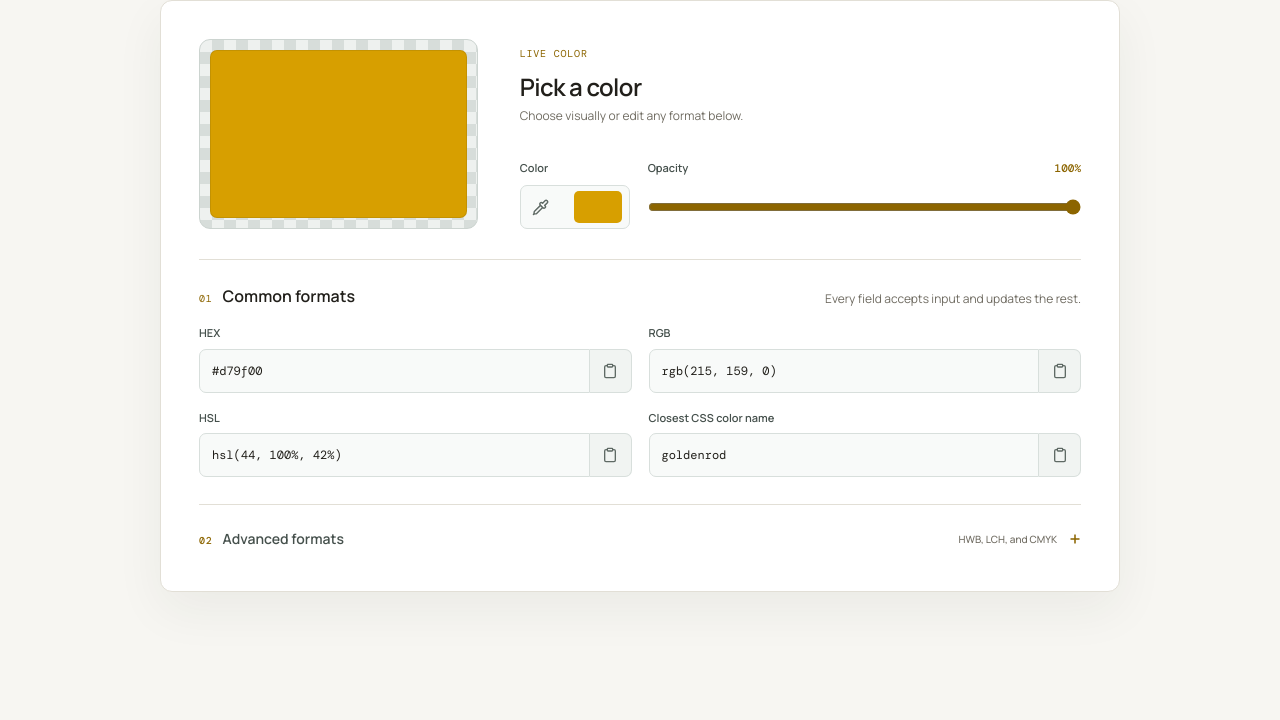
Test: ColorConverterTool › updates every format from a valid CSS color name
This screenshot has width=1280, height=720.
Replace the text in the field labelled "Closest CSS color name" with "olive": (844, 455) [648,433,1039,477]
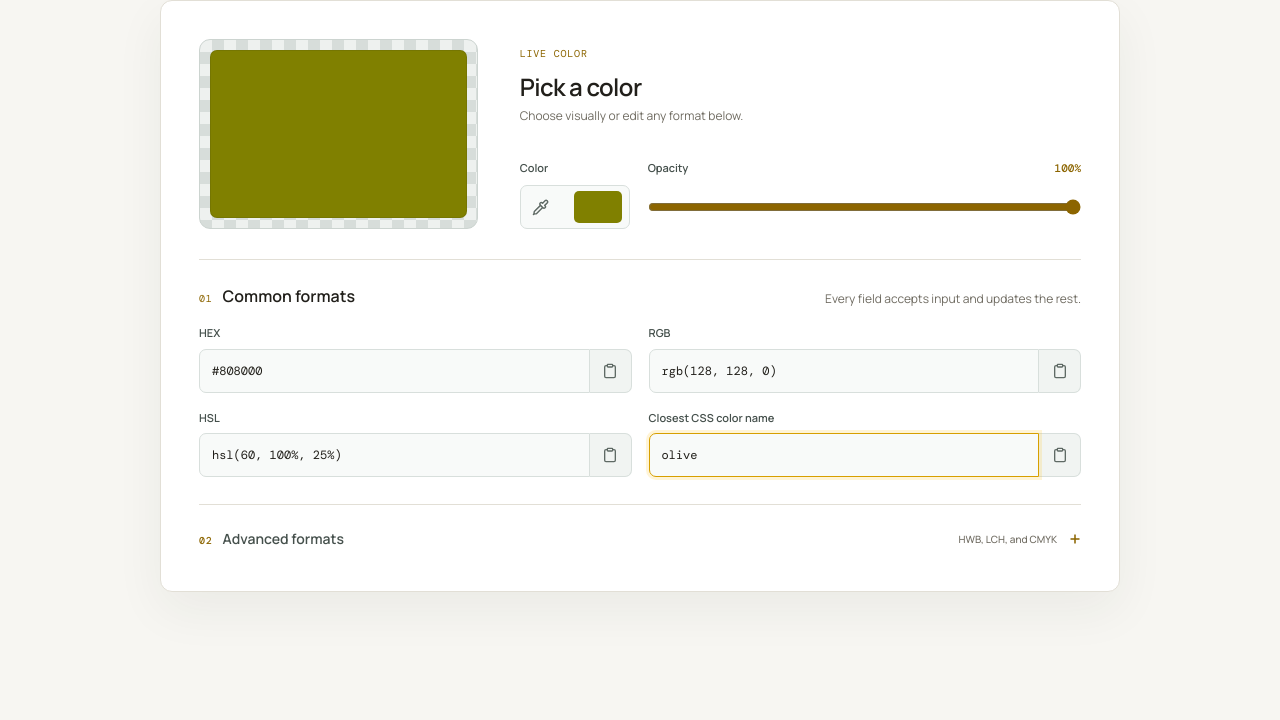
Result: the field labelled "HEX" holds "#808000" at [199,348,590,392]
Result: the field labelled "RGB" holds "rgb(128, 128, 0)" at [648,348,1039,392]
Result: the field labelled "HSL" holds "hsl(60, 100%, 25%)" at [199,433,590,477]
Click the text "Advanced formats": click(272, 539) [199,529,344,549]
(page scrolled)
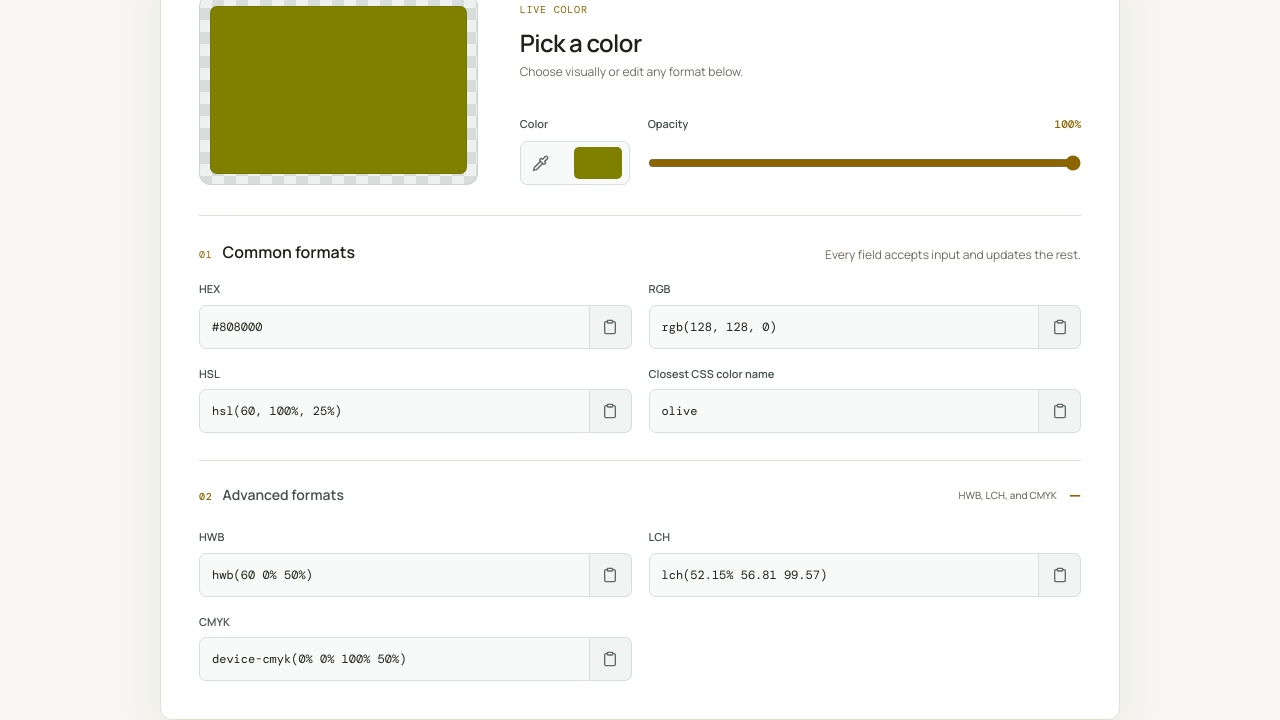
Result: the field labelled "HWB" holds "hwb(60 0% 50%)" at [199,552,590,596]
Result: the field labelled "LCH" holds "lch(52.15% 56.81 99.57)" at [648,552,1039,596]
Result: the field labelled "CMYK" holds "device-cmyk(0% 0% 100% 50%)" at [199,637,590,681]
